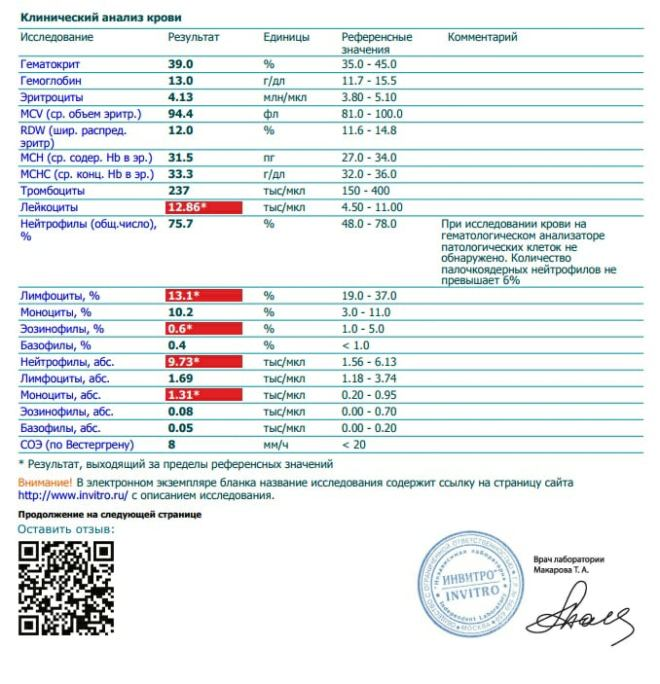column: (440, 28, 617, 452), (18, 28, 156, 452), (340, 28, 413, 452), (166, 28, 221, 452), (262, 28, 311, 452)
